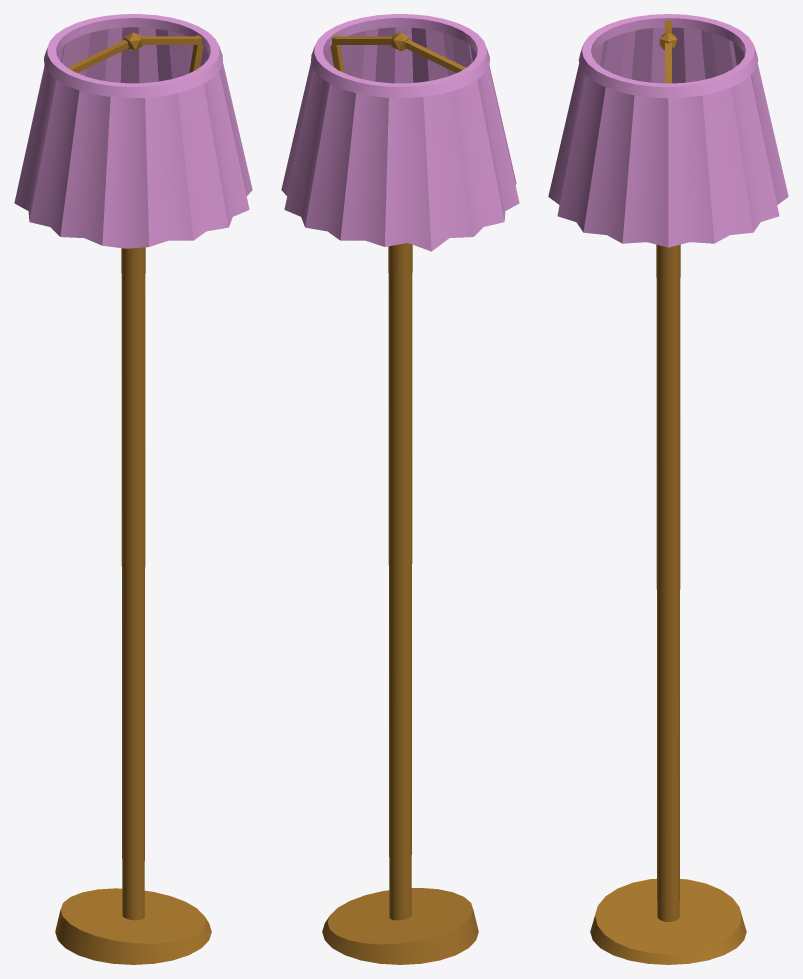
File: standingLamp.fbx
3 renders of one model, left to right at view 1: azimuth 30°, elevation 25°; view 2: azimuth 150°, elevation 25°; view 3: azimuth 270°, elevation 25°, orthographic.
Parts seen in each view (by area): view 1: Standing Lamp; view 2: Standing Lamp; view 3: Standing Lamp.
Part boxes in pixels (x1=…): Standing Lamp: x1=14, y1=14, x2=252, y2=964; Standing Lamp: x1=281, y1=14, x2=519, y2=964; Standing Lamp: x1=548, y1=14, x2=788, y2=964.
Bounding box in the file's own units: 81.4 × 81.4 × 336.
